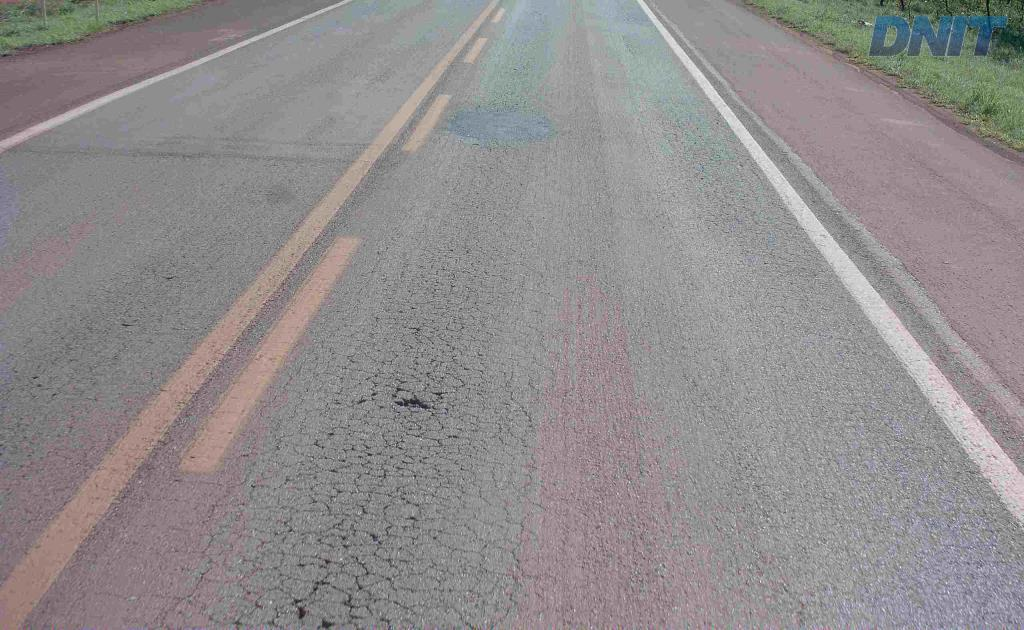crack: (300, 518, 382, 596), (359, 491, 416, 578), (389, 378, 461, 445)
